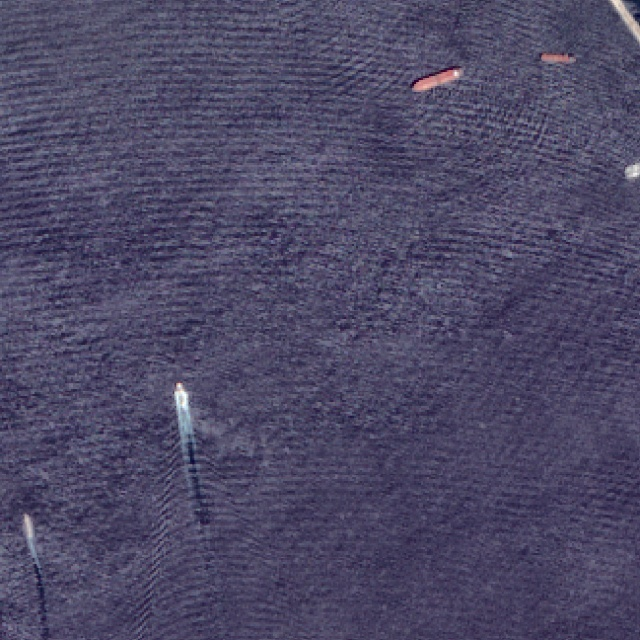wake: (126, 368, 263, 599)
